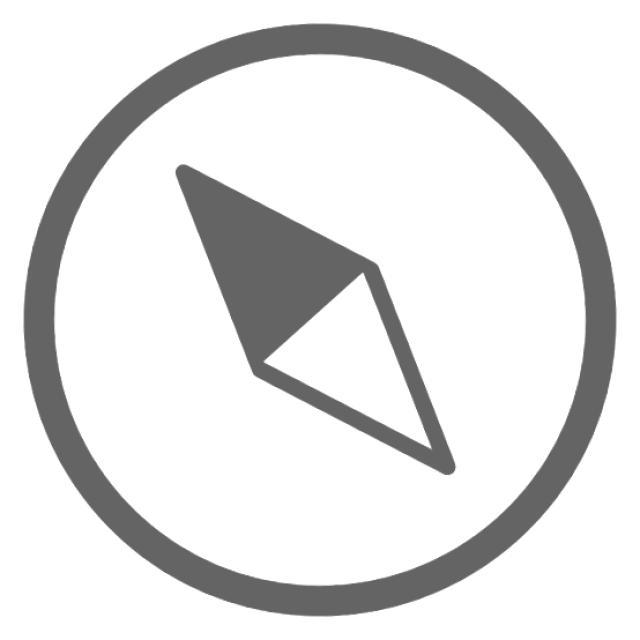compass: (16, 17, 633, 631)
